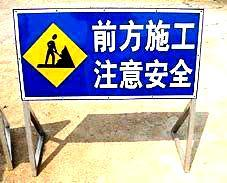sign: (14, 10, 197, 97)
